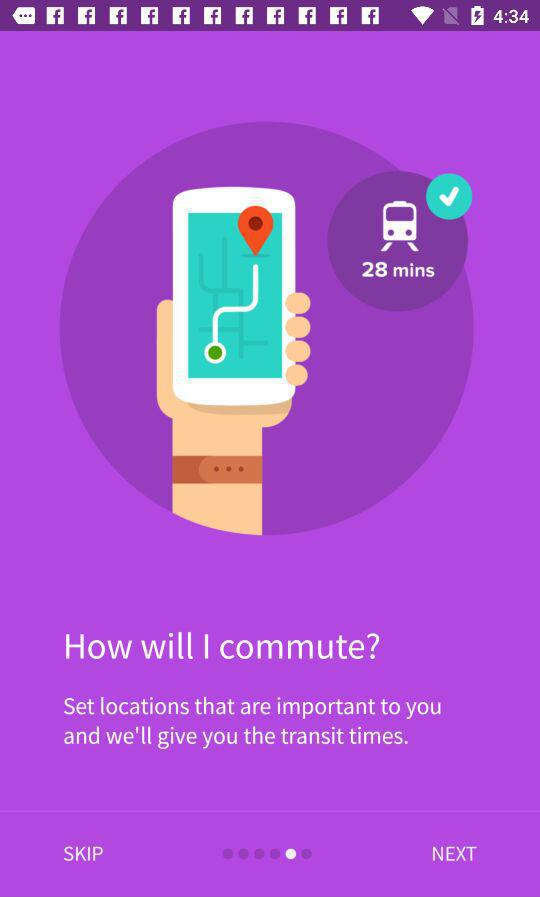Image: (58, 120, 474, 537)
PageIndicator: (222, 847, 314, 861)
Text: (63, 695, 442, 750), (65, 631, 382, 662), (431, 845, 478, 864), (64, 845, 105, 863)
UpperTaskBar: (1, 1, 540, 33)
